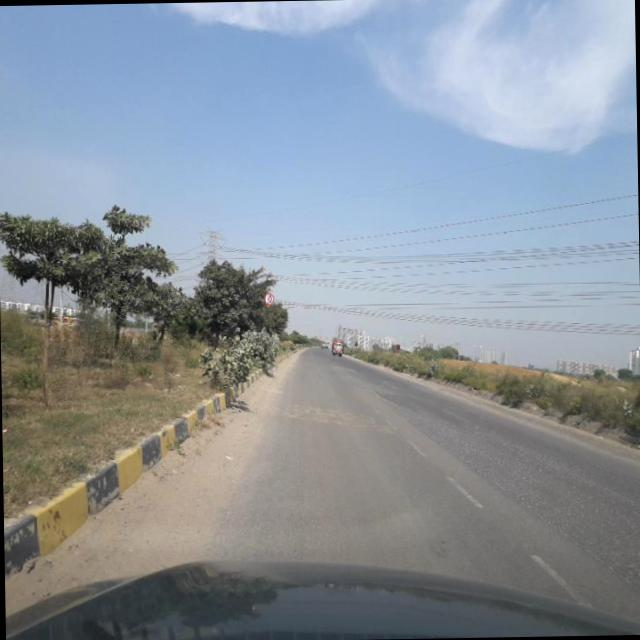crack: (419, 418, 640, 595)
